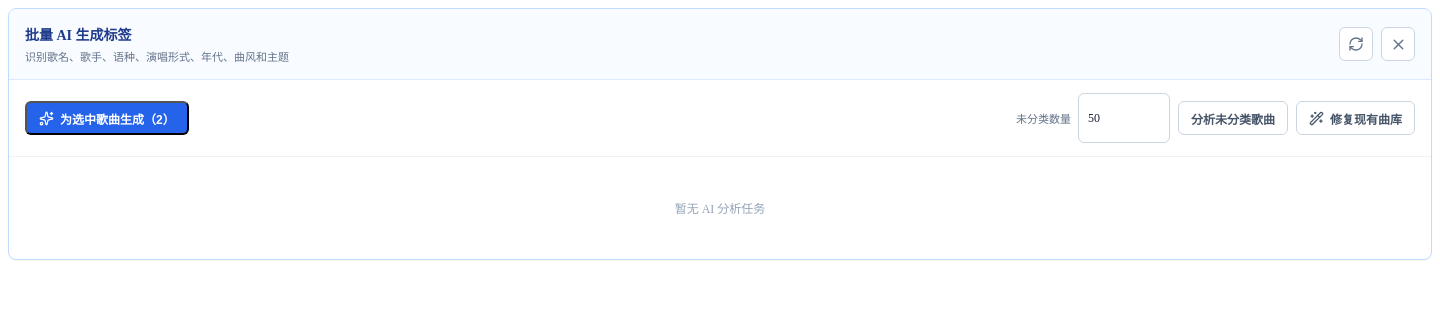
Test: AiTaskPanel › reports selected-task creation without a skipped count when every request succeeds
Click the button "为选中歌曲生成（2）" at (107, 118), box [25,101,189,135]
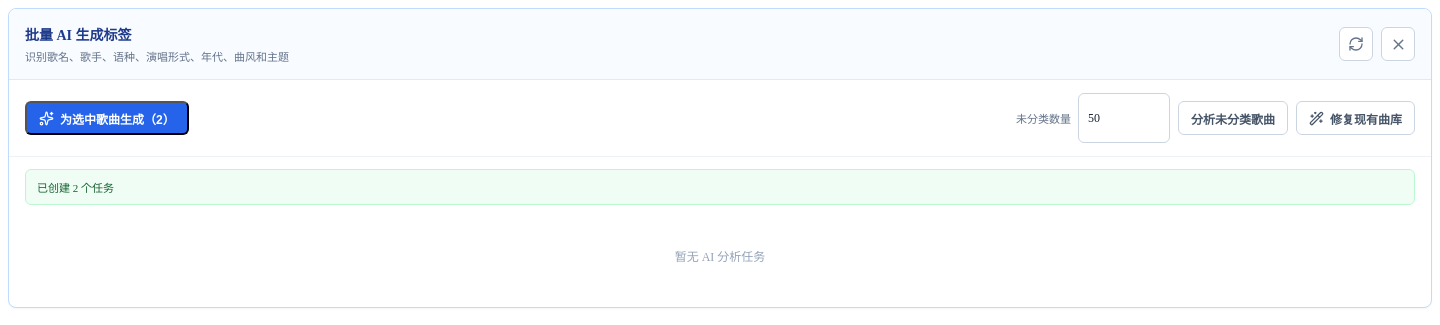
Check: the text "已创建 2 个任务" is shown, box [25,169,1415,205]
